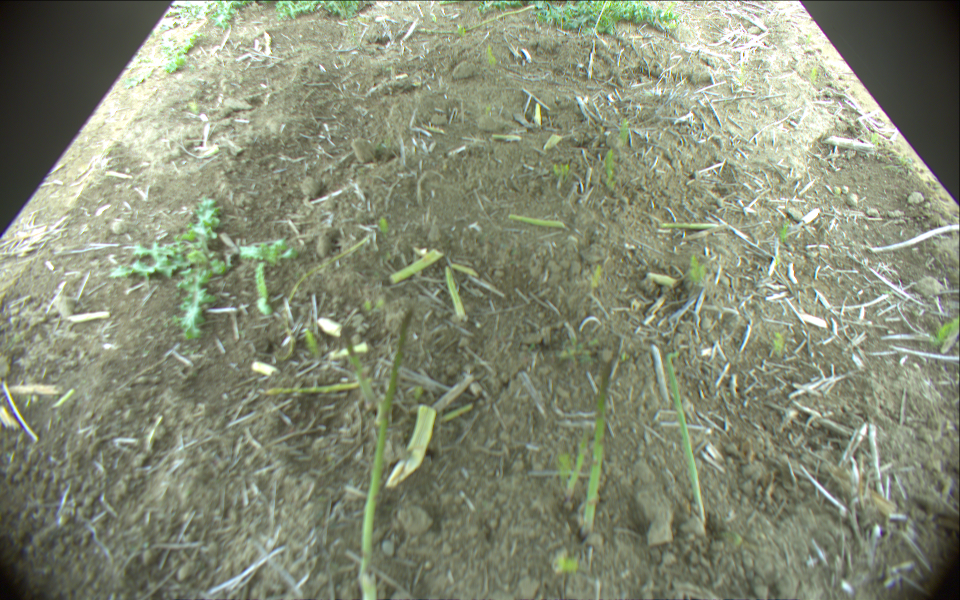aspa: (360, 309, 414, 600), (665, 353, 709, 529), (284, 234, 370, 308), (579, 356, 611, 535), (386, 402, 438, 489), (412, 5, 537, 34), (344, 327, 376, 406), (389, 248, 442, 282), (255, 379, 364, 395), (565, 430, 589, 499), (445, 268, 467, 324), (508, 216, 566, 229), (661, 221, 726, 230), (450, 265, 478, 276)
